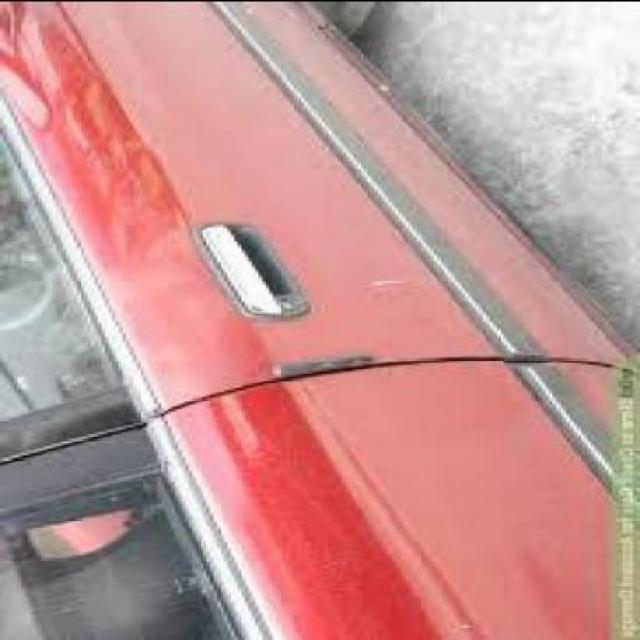damage: (94, 241, 263, 417)
